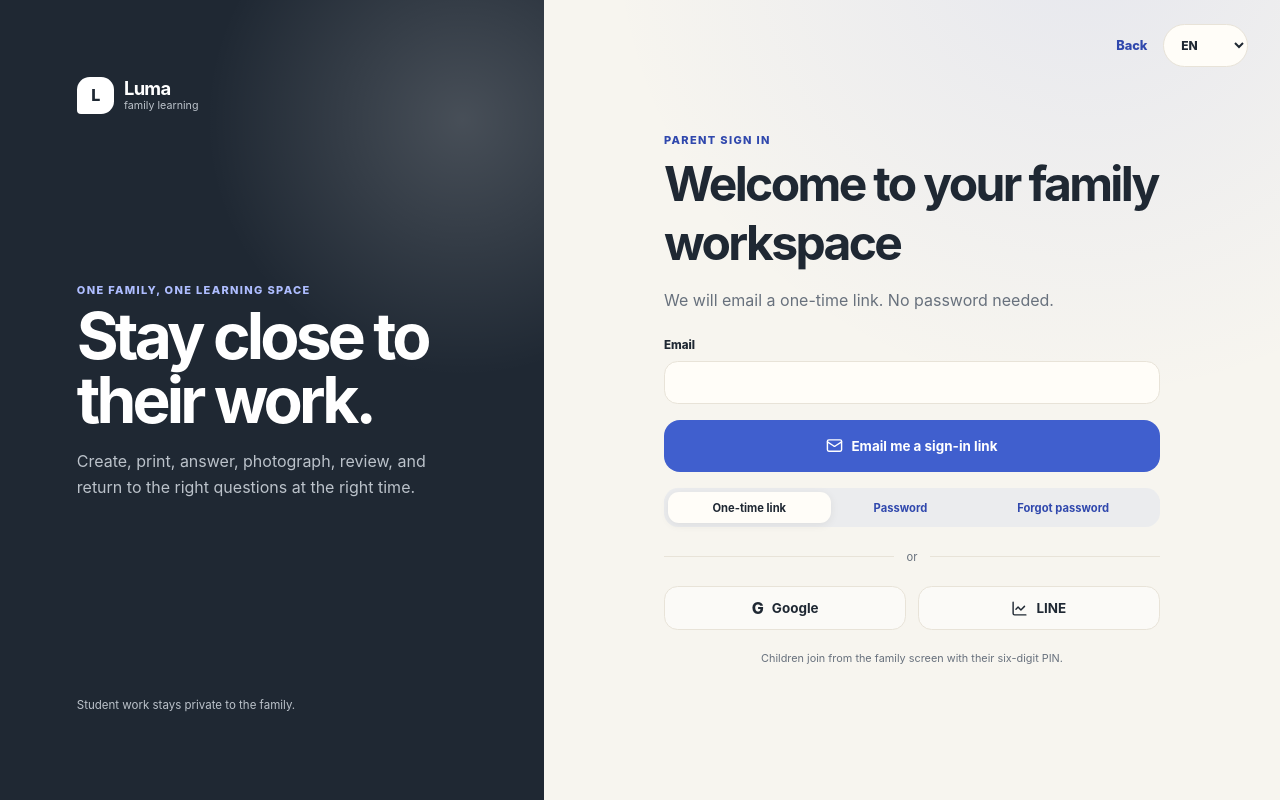
AuthPanel › switches the sign-in flow into the selected language
This screenshot has width=1280, height=800.
Select "中文" in the dropdown named "Language" at (1206, 46), box [1163,24,1248,67]
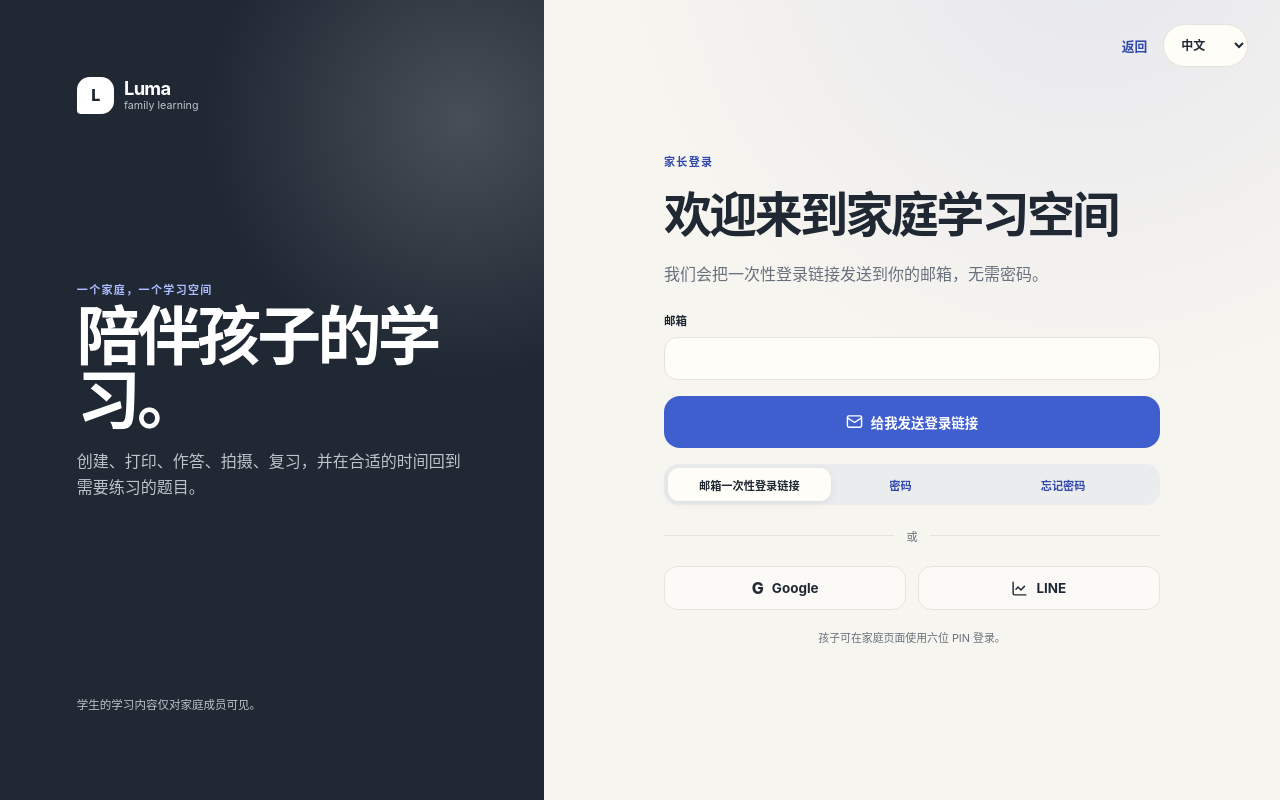
Result: the text "家长登录" is shown at [664,155,713,169]
Result: the button "邮箱一次性登录链接" is shown at [668,468,831,501]
Result: the button "给我发送登录链接" is shown at [664,396,1160,448]
